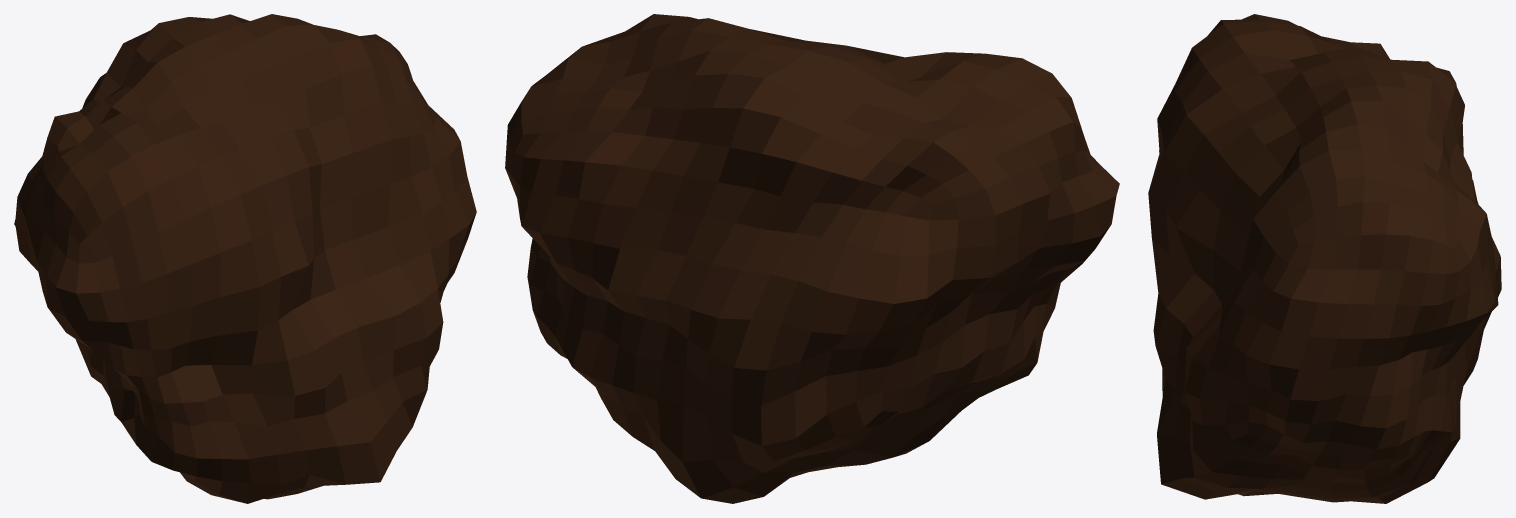
Rendered from Asteroid3.fbx.
3 renders of one model, left to right at view 1: azimuth 30°, elevation 25°; view 2: azimuth 150°, elevation 25°; view 3: azimuth 270°, elevation 25°, orthographic. The views are drawn at different scales.
Parts seen in each view (by area): view 1: Asteroid3; view 2: Asteroid3; view 3: Asteroid3.
Part boxes in pixels (<box>): Asteroid3: <box>14,14,476,503</box>; Asteroid3: <box>505,14,1119,503</box>; Asteroid3: <box>1148,14,1501,503</box>.
Bounding box in the file's own units: 2169 × 1907 × 1464.
